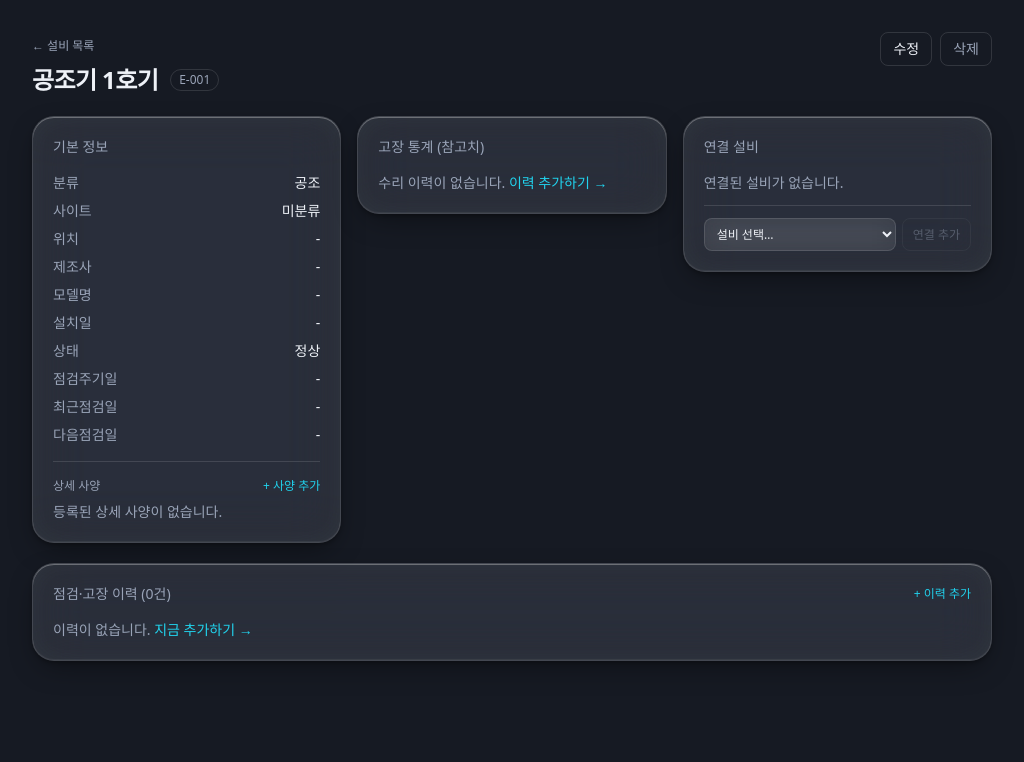
Scenario: EquipmentDetail › 수정 폼으로 필드를 바꾸면 store가 갱신된다
Click the button "수정": {"x": 906, "y": 49} [880,32,932,66]
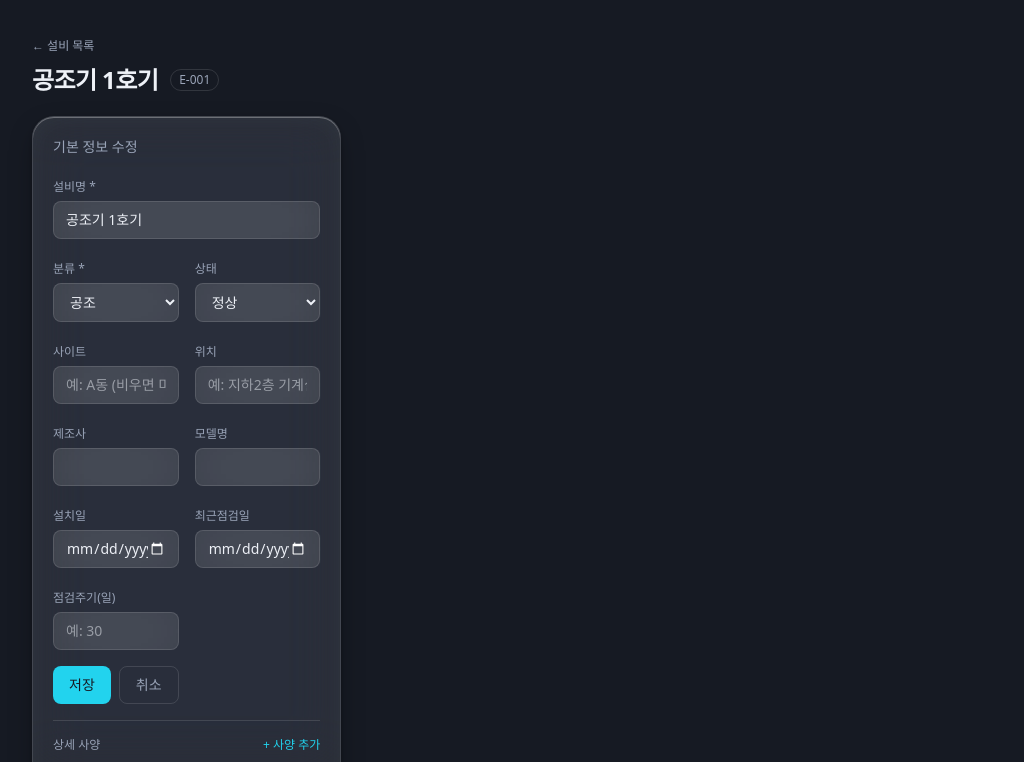
Replace the text in the field labelled "설비명 *" with "공조기 1호기(개명)": {"x": 187, "y": 220} [53,201,320,239]
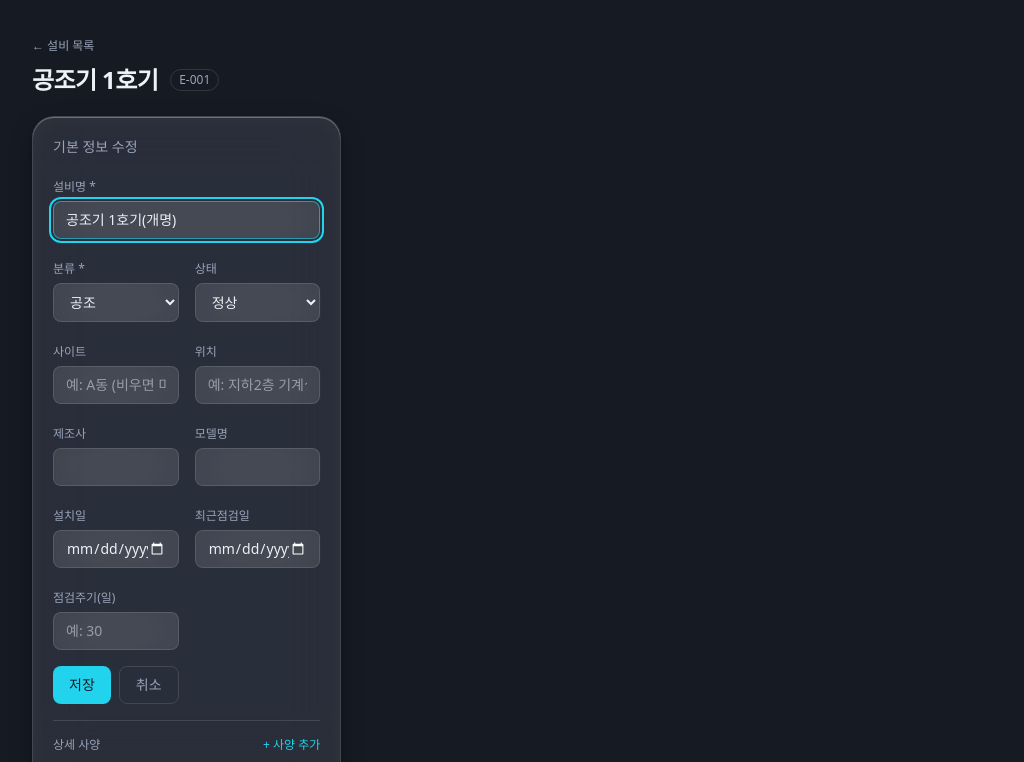
Click the button "저장": {"x": 82, "y": 685} [53,666,111,704]
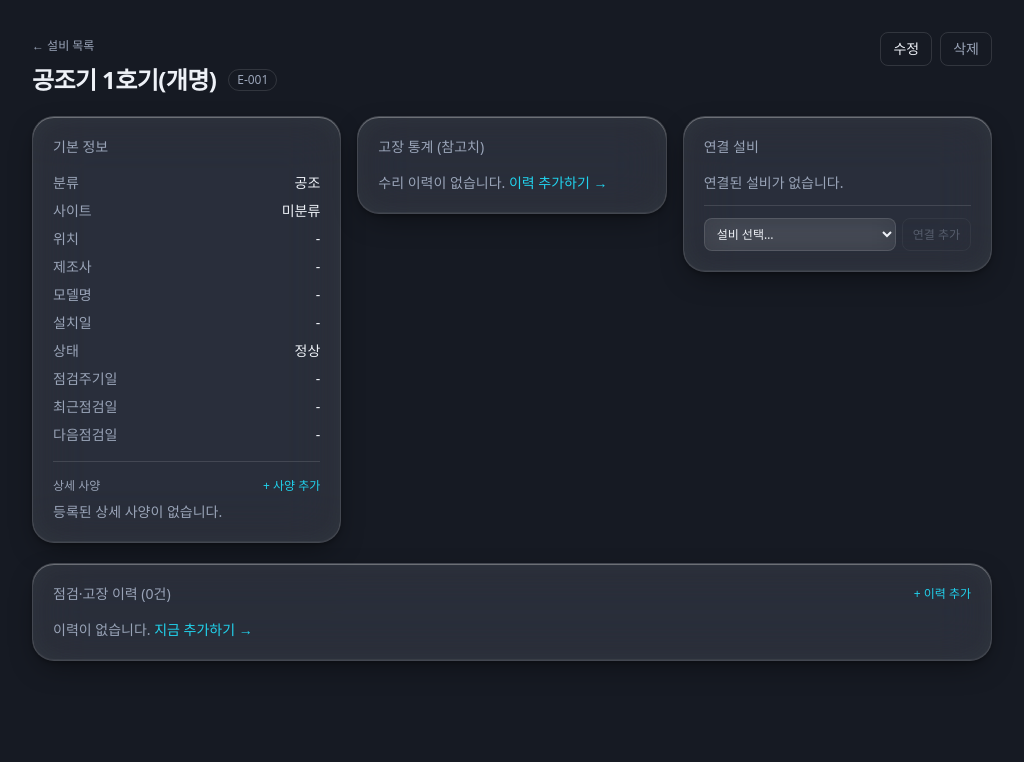
Result: the heading "공조기 1호기(개명)" is shown at [32,64,216,96]
